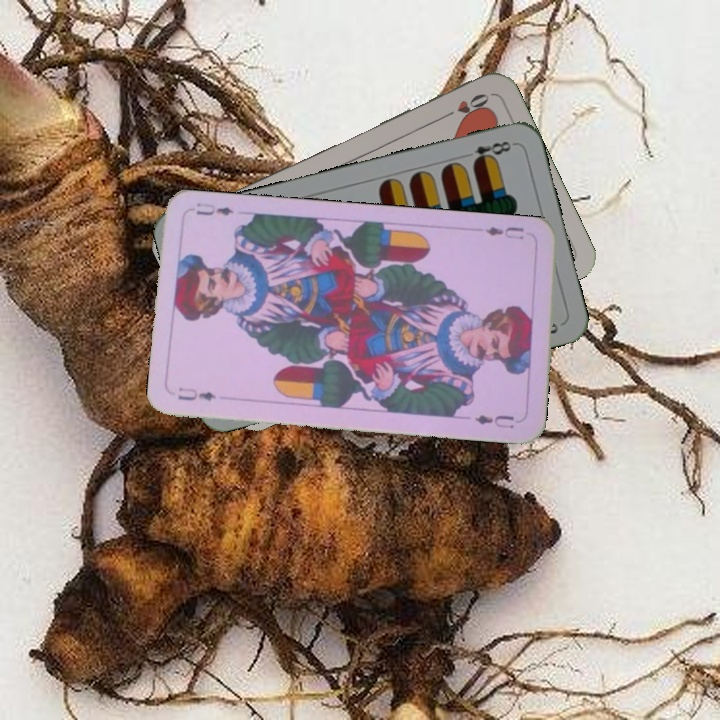E8: (468, 137, 517, 167)
EU: (481, 222, 527, 243), (173, 383, 219, 404)
HO: (437, 89, 492, 122)
